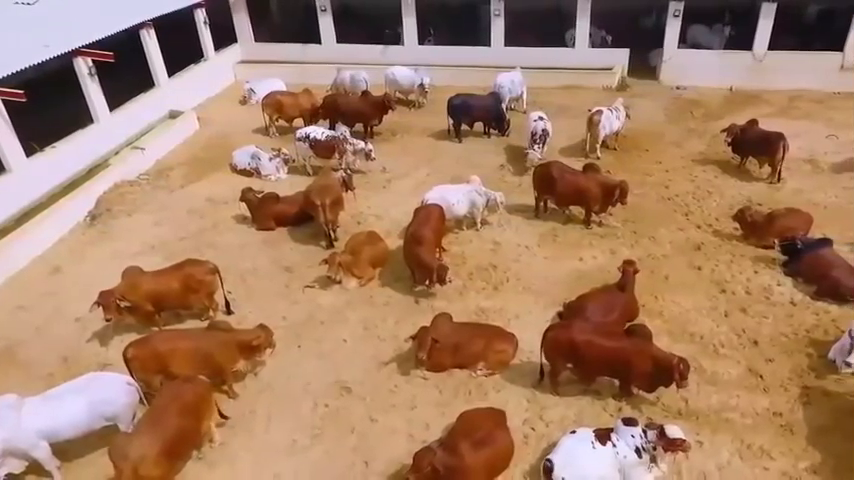bo: (4, 355, 145, 478), (107, 368, 235, 480), (535, 317, 697, 405), (80, 248, 223, 333), (535, 403, 692, 480), (125, 313, 272, 393), (522, 149, 639, 226), (404, 401, 517, 479), (552, 250, 646, 331), (408, 312, 517, 379), (715, 105, 792, 188), (773, 229, 853, 304), (422, 167, 508, 235), (298, 152, 355, 253), (398, 192, 455, 291), (317, 221, 390, 296), (579, 86, 635, 168), (725, 191, 810, 245), (442, 86, 513, 148), (296, 115, 377, 169), (235, 168, 298, 236), (318, 88, 393, 140), (675, 6, 743, 62), (554, 15, 620, 67), (378, 55, 433, 112), (513, 95, 554, 165), (224, 138, 287, 183), (485, 52, 530, 112), (255, 86, 318, 127), (239, 70, 285, 108), (323, 60, 370, 95)
